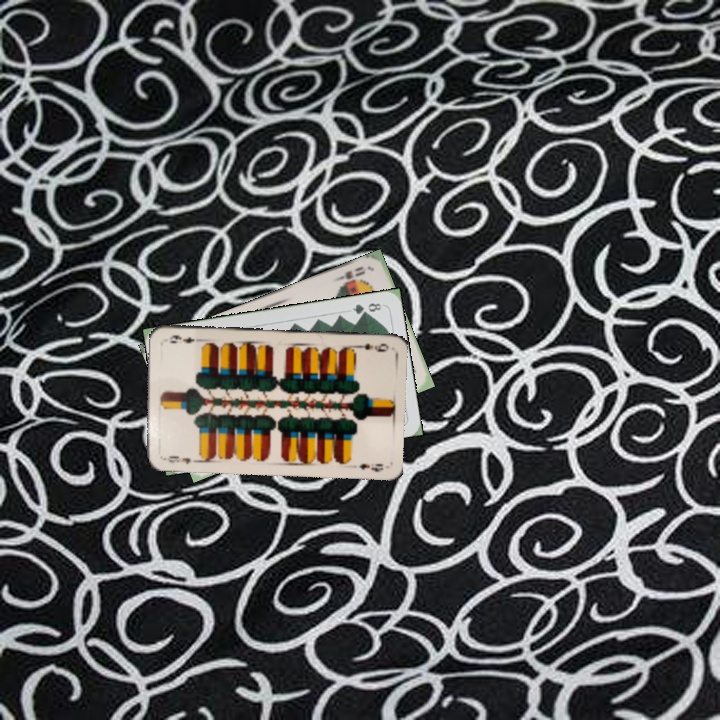E9: (351, 339, 391, 354), (158, 452, 193, 467)
G8: (348, 299, 384, 317)
SO: (331, 262, 368, 284)
